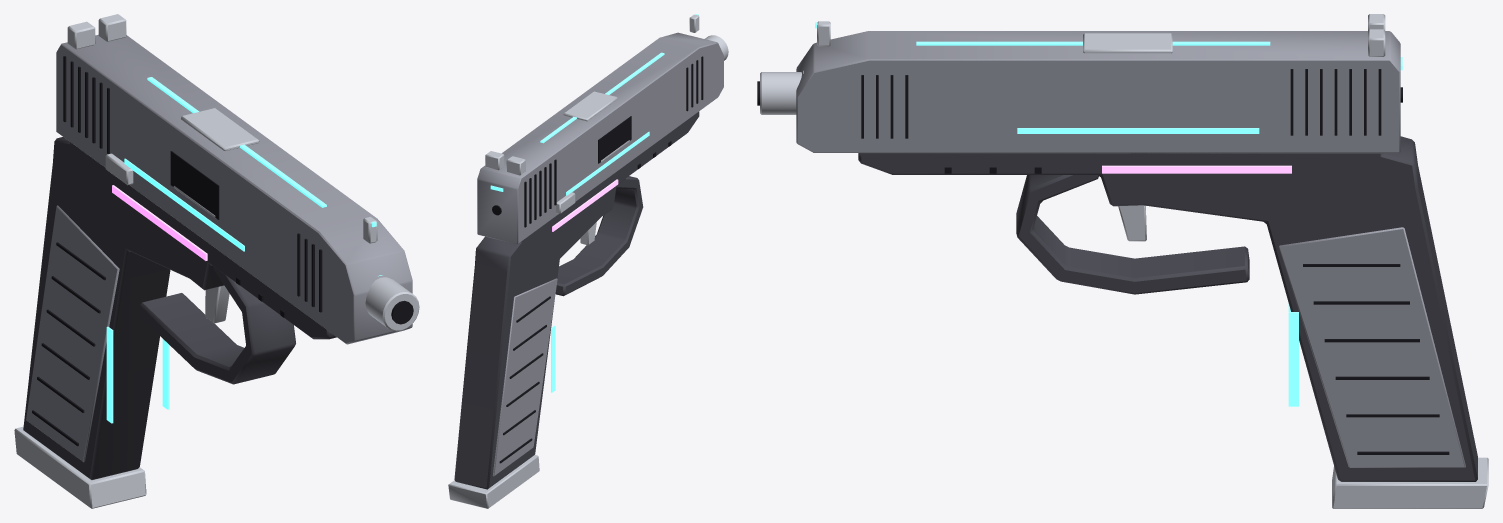
The model's file is w_pistol.glb.
3 renders of one model, left to right at view 1: azimuth 30°, elevation 25°; view 2: azimuth 150°, elevation 25°; view 3: azimuth 270°, elevation 25°, orthographic. The views are drawn at different scales.
Visible parts, largest first — view 1: body, grip, metal, dark, acc, heat; view 2: body, grip, metal, dark, acc, heat; view 3: body, grip, metal, dark, acc, heat.
Boxes of the visible parts, x1=… form: body: x1=26, y1=34, x2=412, y2=462; grip: x1=23, y1=137, x2=336, y2=479; metal: x1=14, y1=14, x2=419, y2=508; dark: x1=32, y1=56, x2=413, y2=446; acc: x1=106, y1=77, x2=382, y2=423; heat: x1=112, y1=185, x2=207, y2=260; body: x1=477, y1=32, x2=723, y2=476; grip: x1=454, y1=111, x2=699, y2=489; metal: x1=448, y1=14, x2=728, y2=508; dark: x1=492, y1=56, x2=703, y2=463; acc: x1=490, y1=14, x2=698, y2=392; heat: x1=552, y1=179, x2=618, y2=231; body: x1=796, y1=31, x2=1465, y2=467; grip: x1=858, y1=136, x2=1477, y2=481; metal: x1=760, y1=14, x2=1488, y2=508; dark: x1=757, y1=69, x2=1449, y2=454; acc: x1=803, y1=22, x2=1402, y2=406; heat: x1=1102, y1=165, x2=1291, y2=173.
Size of the model in its own units: 0.0454 by 0.302 by 0.4233.
